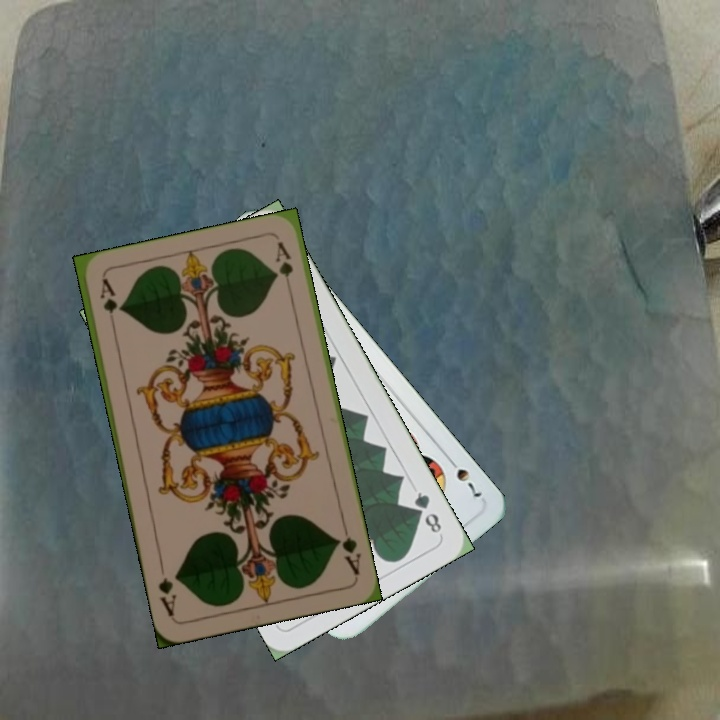G8: (409, 487, 445, 536)
GA: (332, 520, 364, 578), (96, 275, 119, 334)
S7: (443, 452, 485, 501)
